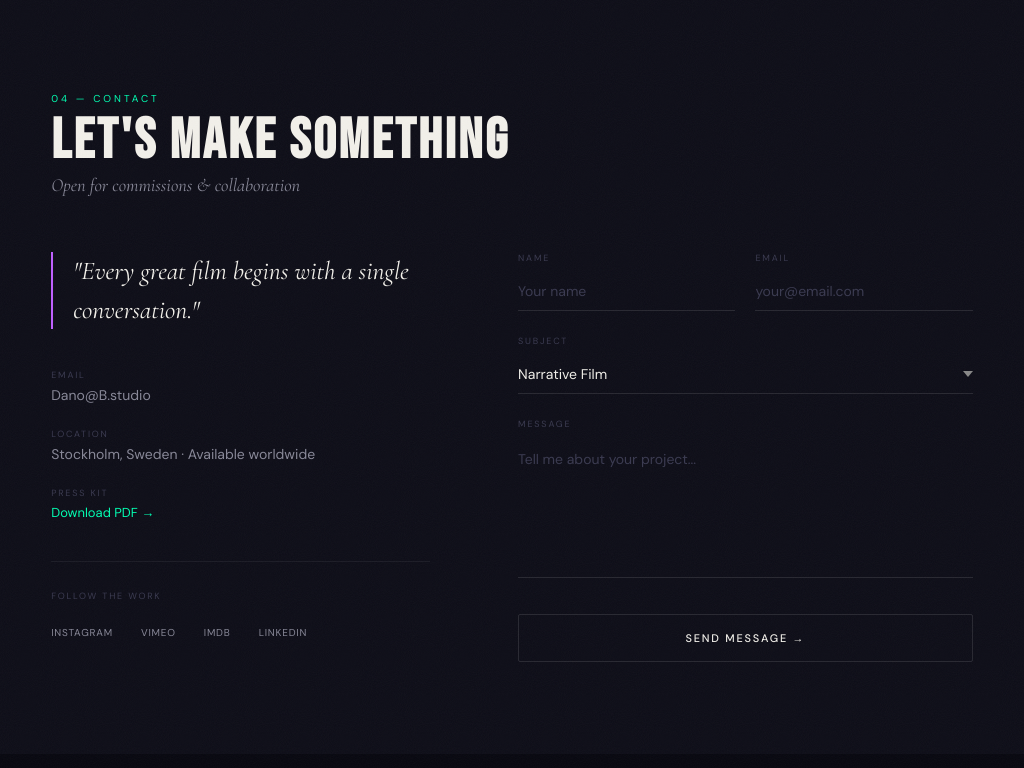
Test: Contact › shows email format error for invalid email
Type "Test User" into the field labelled "Name" at (627, 292), box [518,272,736,311]
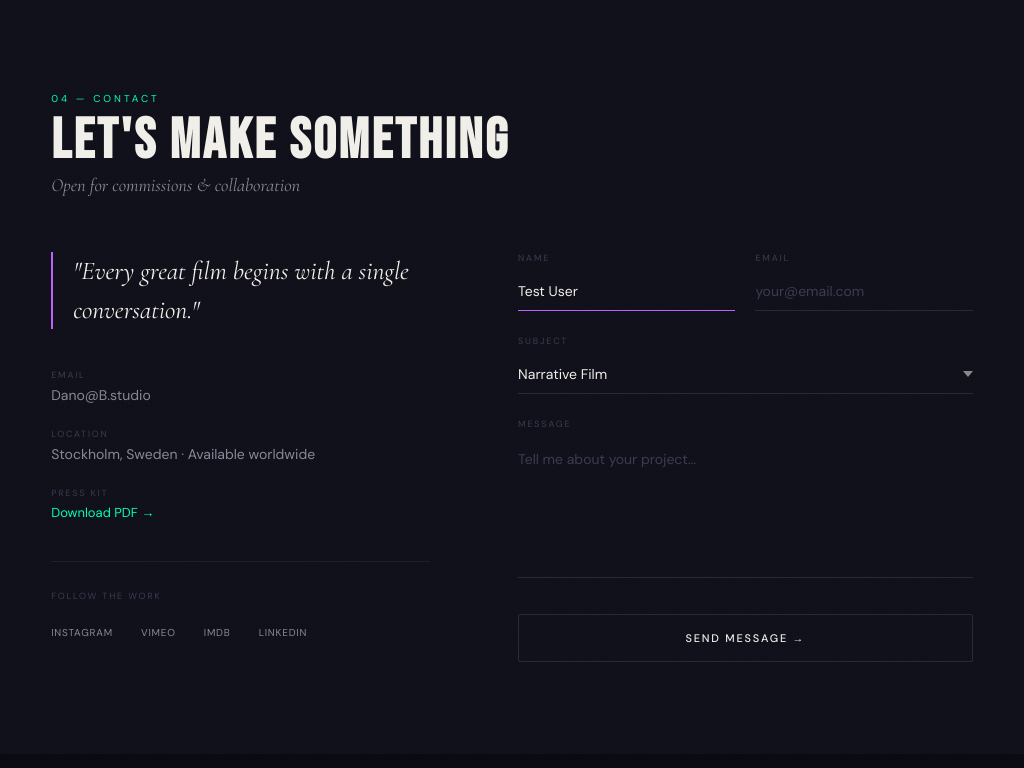
Type "notanemail" into the field labelled "Email" at (864, 292), box [756,272,973,311]
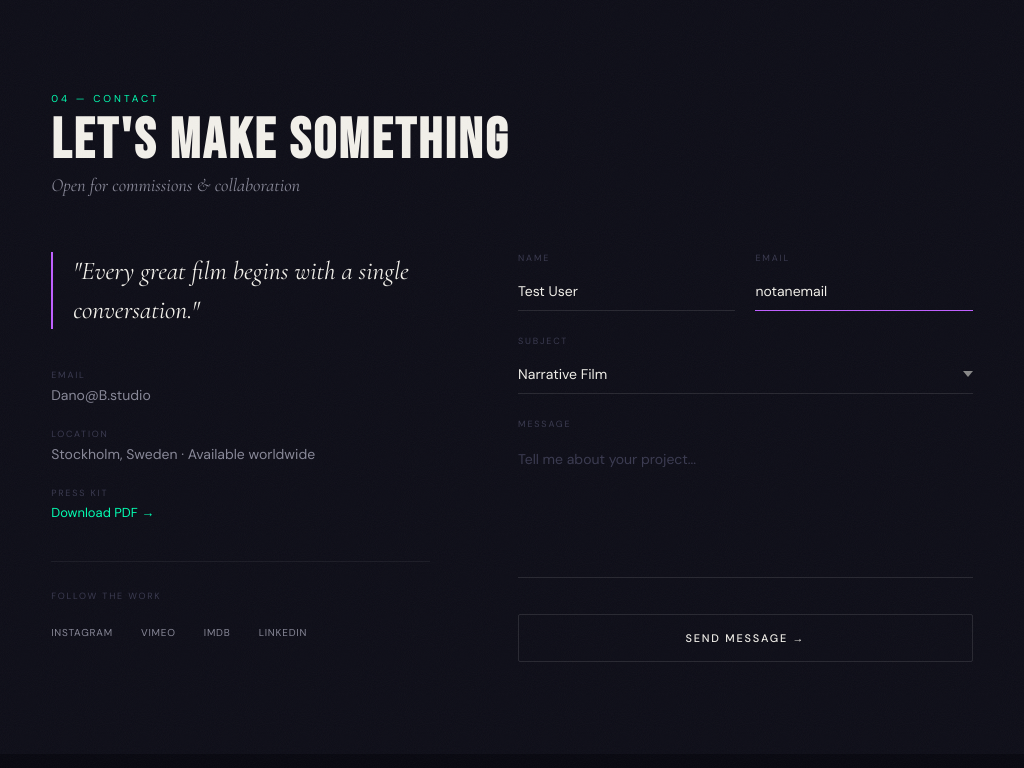
Type "This is a test message" into the text box labelled "Message" at (745, 508), box [518,438,973,578]
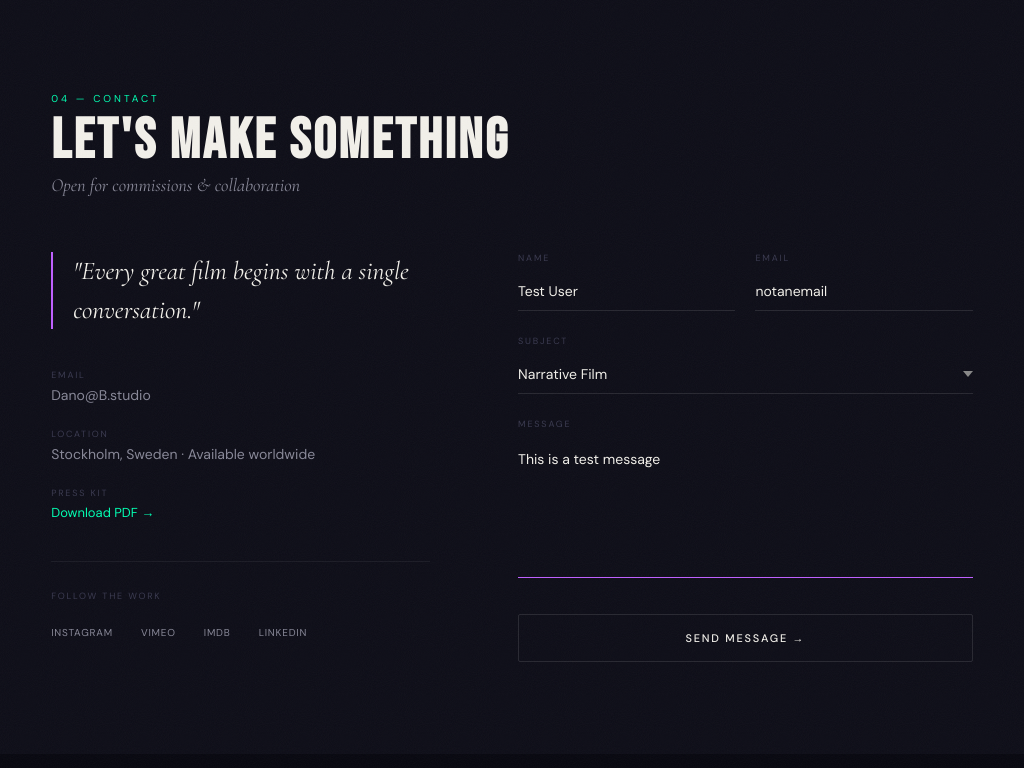
Click the button "Send Message →" at (745, 638), box [518,614,973,662]
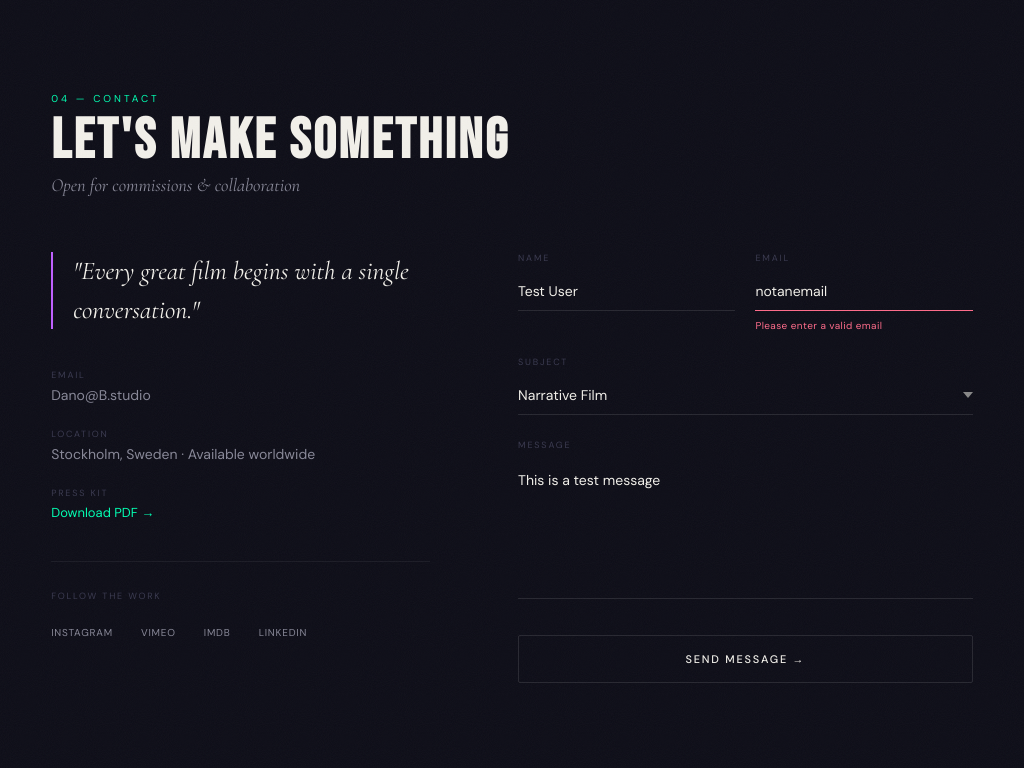
Now the text "Please enter a valid email" is shown, box [756,319,882,332]
